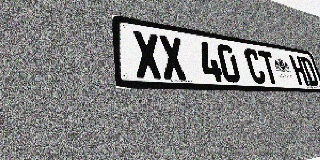0: (215, 43, 241, 83)
4: (197, 40, 224, 82)
C: (243, 48, 267, 84)
D: (299, 57, 319, 86)
H: (289, 55, 310, 86)
T: (257, 50, 280, 84)
X: (132, 30, 163, 79), (158, 34, 188, 80)
